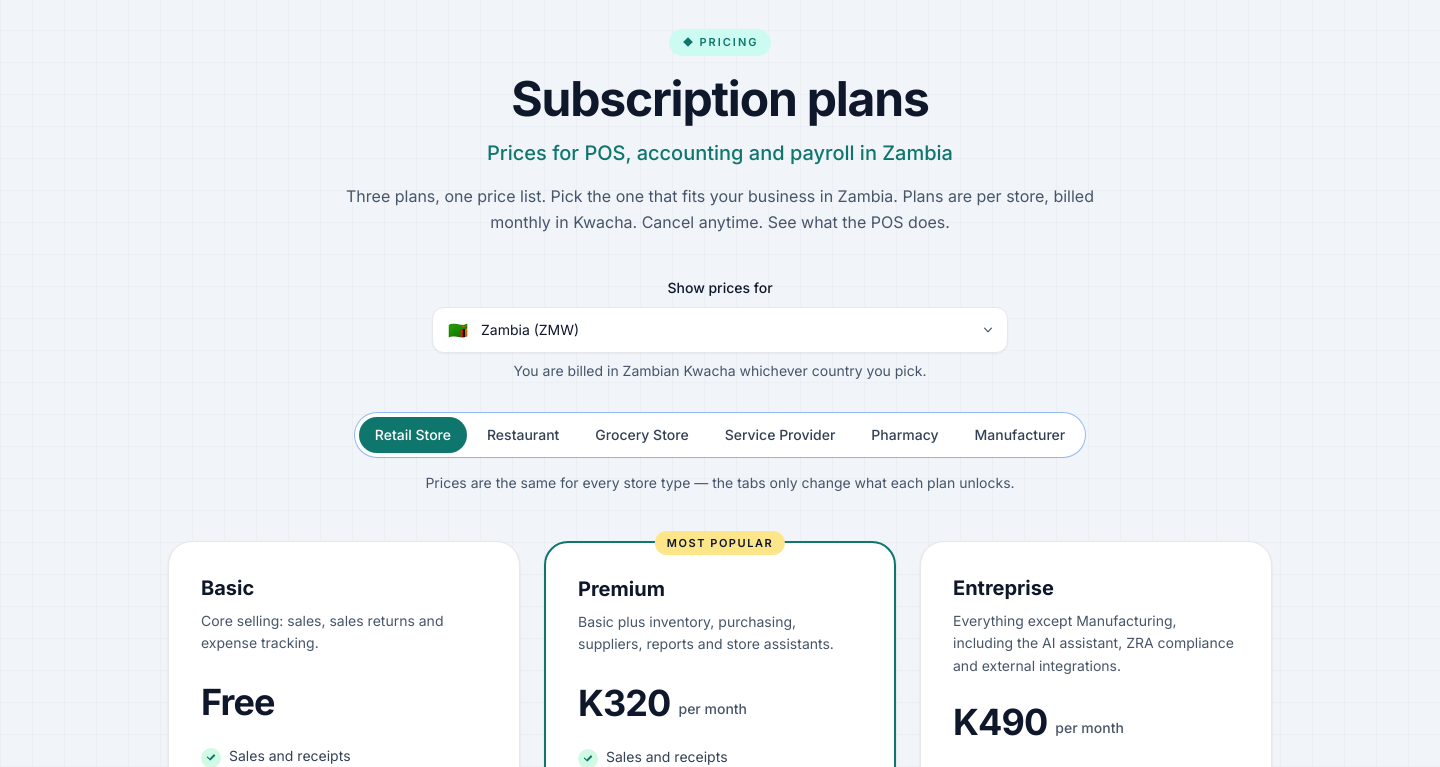
Test: PricingContent › hides purchasing rows for Service Provider and lists services instead of products
Click the tab "Service Provider". click: [780, 434]
box: [709,416,851,452]
(page scrolled)
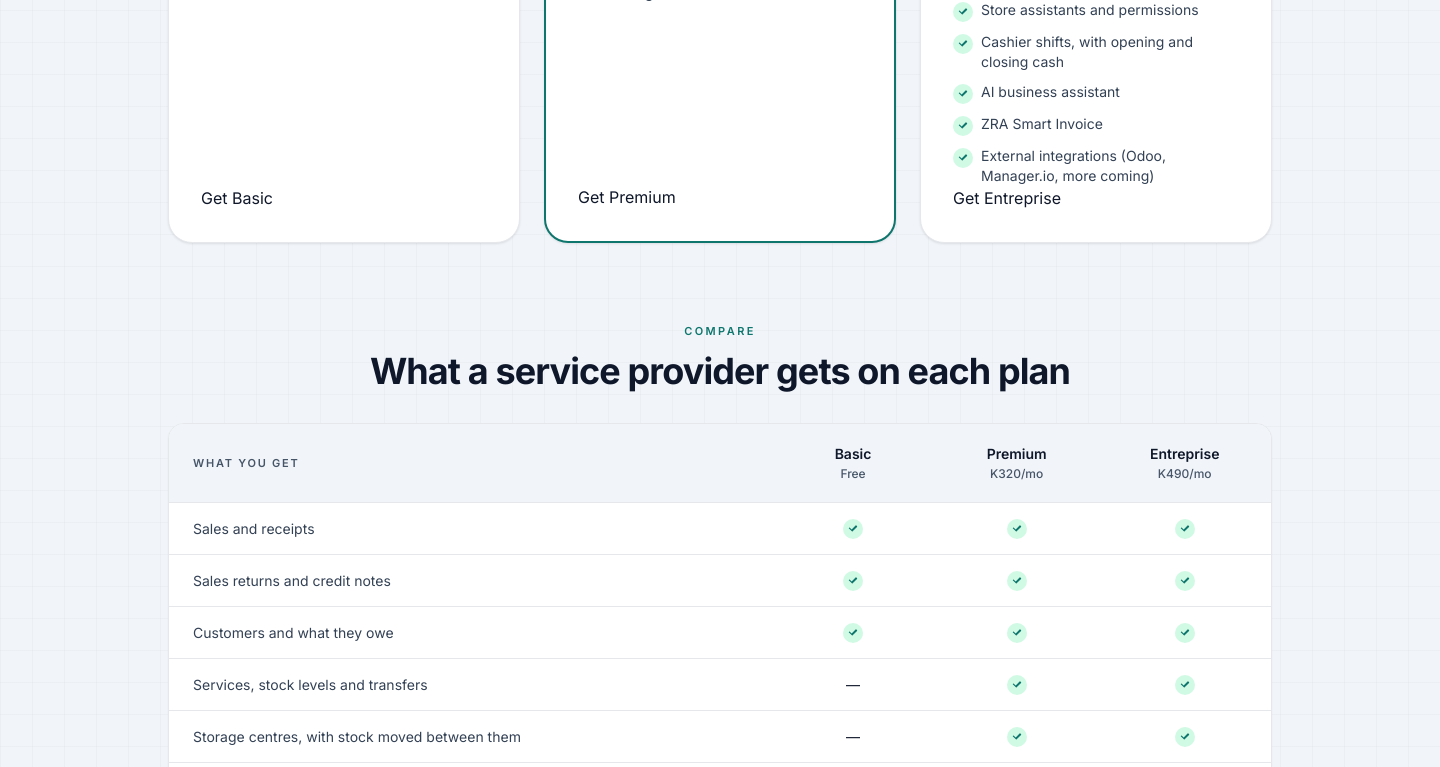
Now the heading "What a service provider gets on each plan" is shown, box [370,349,1070,393]
